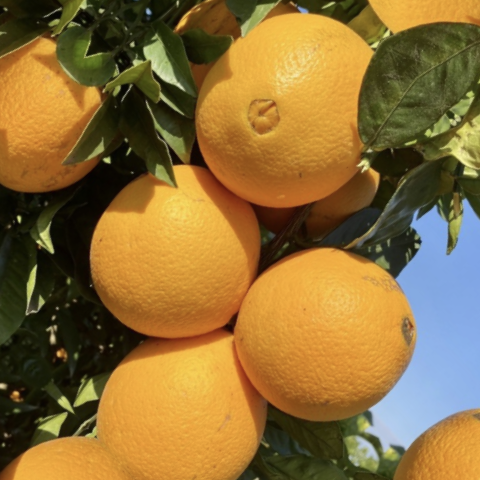orange: (151, 0, 447, 261), (48, 113, 312, 377), (204, 212, 460, 470), (57, 265, 331, 480)
